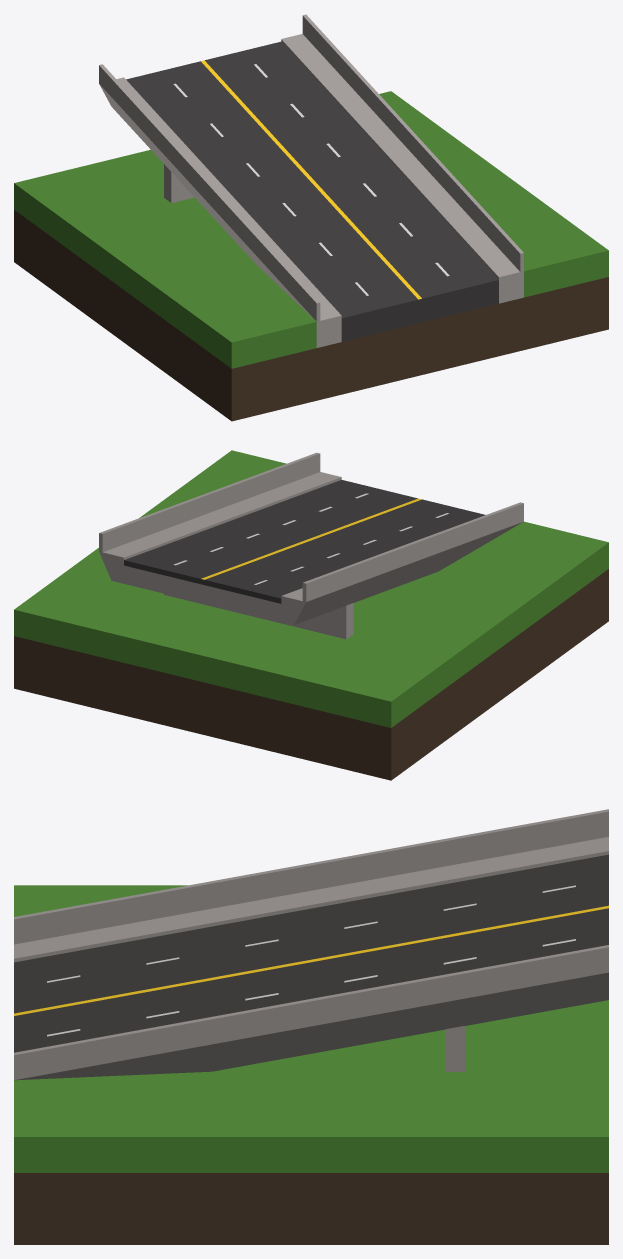
Rendered from Highway_ground.glb.
The picture shows the model from 3 angles, top to bottom: view 1: azimuth 30°, elevation 25°; view 2: azimuth 150°, elevation 25°; view 3: azimuth 270°, elevation 25°; orthographic projection. The views are drawn at different scales.
Visible parts, largest first — view 1: huitugou_2159_1365; view 2: huitugou_2159_1365; view 3: huitugou_2159_1365.
Boxes of the visible parts, box(x1,y1,x2,y2) form: huitugou_2159_1365: box(14, 14, 608, 421); huitugou_2159_1365: box(14, 450, 608, 780); huitugou_2159_1365: box(14, 809, 608, 1244).
Bounding box in the file's own units: 15 × 6.7 × 15.
1 material, 1 textured.
